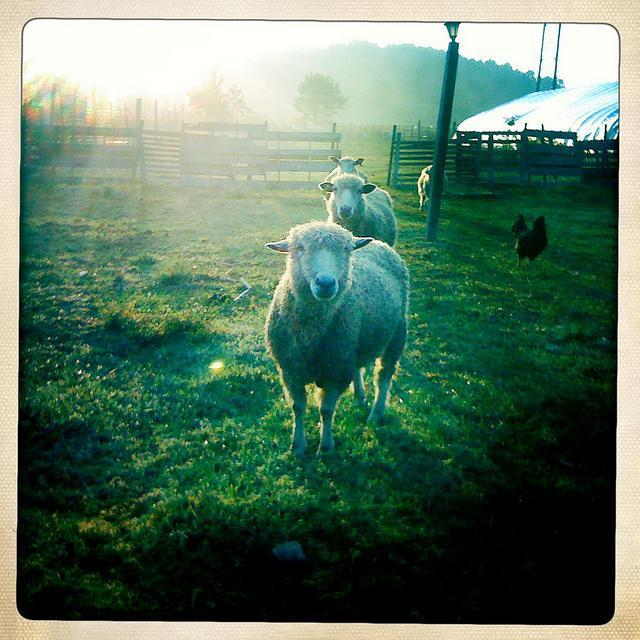Sheep: (261, 220, 412, 456), (320, 175, 398, 247), (324, 155, 394, 207)
